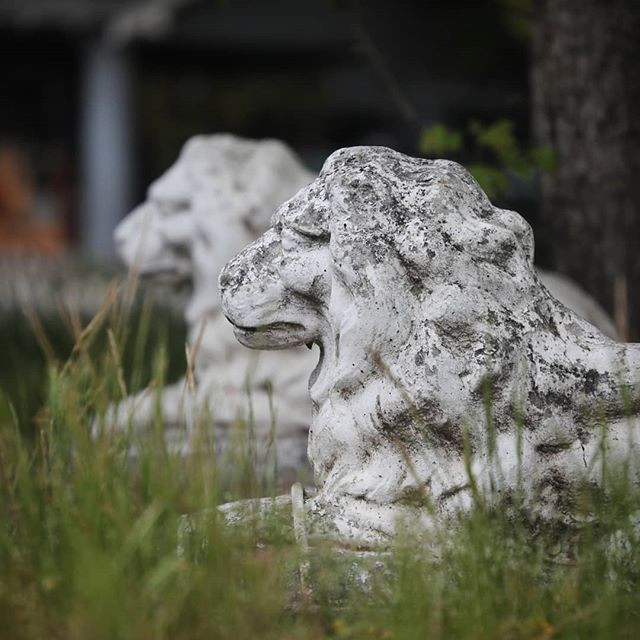statue: (208, 174, 640, 640), (100, 121, 296, 423)
